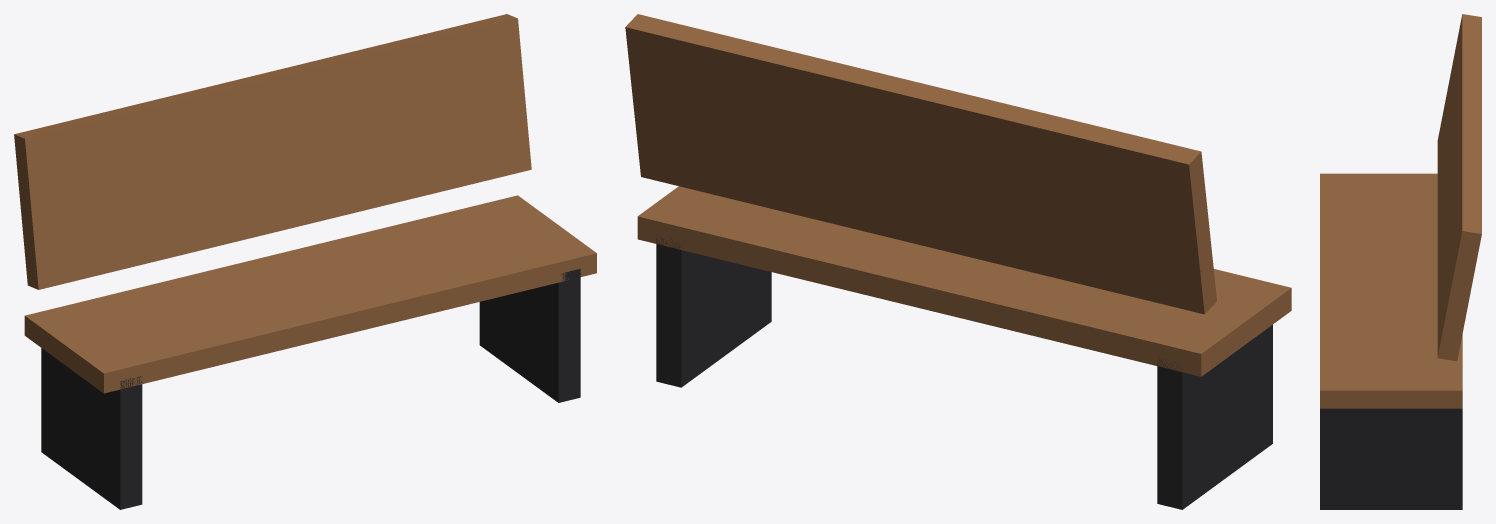
File: SM_Bench.fbx
3 renders of one model, left to right at view 1: azimuth 30°, elevation 25°; view 2: azimuth 150°, elevation 25°; view 3: azimuth 270°, elevation 25°, orthographic. The views are drawn at different scales.
Parts seen in each view (by area): view 1: Bench; view 2: Bench; view 3: Bench.
Part boxes in pixels (box(x1,y1,x2,y2)): Bench: box(14, 14, 596, 509); Bench: box(625, 14, 1291, 509); Bench: box(1320, 14, 1481, 509).
Size of the model in its own units: 180 by 56.79 by 111.
